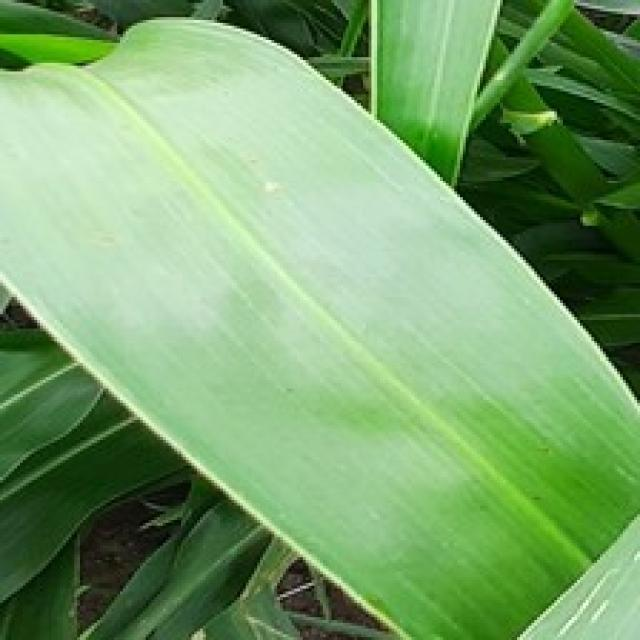Corn: (0, 12, 637, 637), (0, 320, 186, 637), (0, 0, 117, 329)
